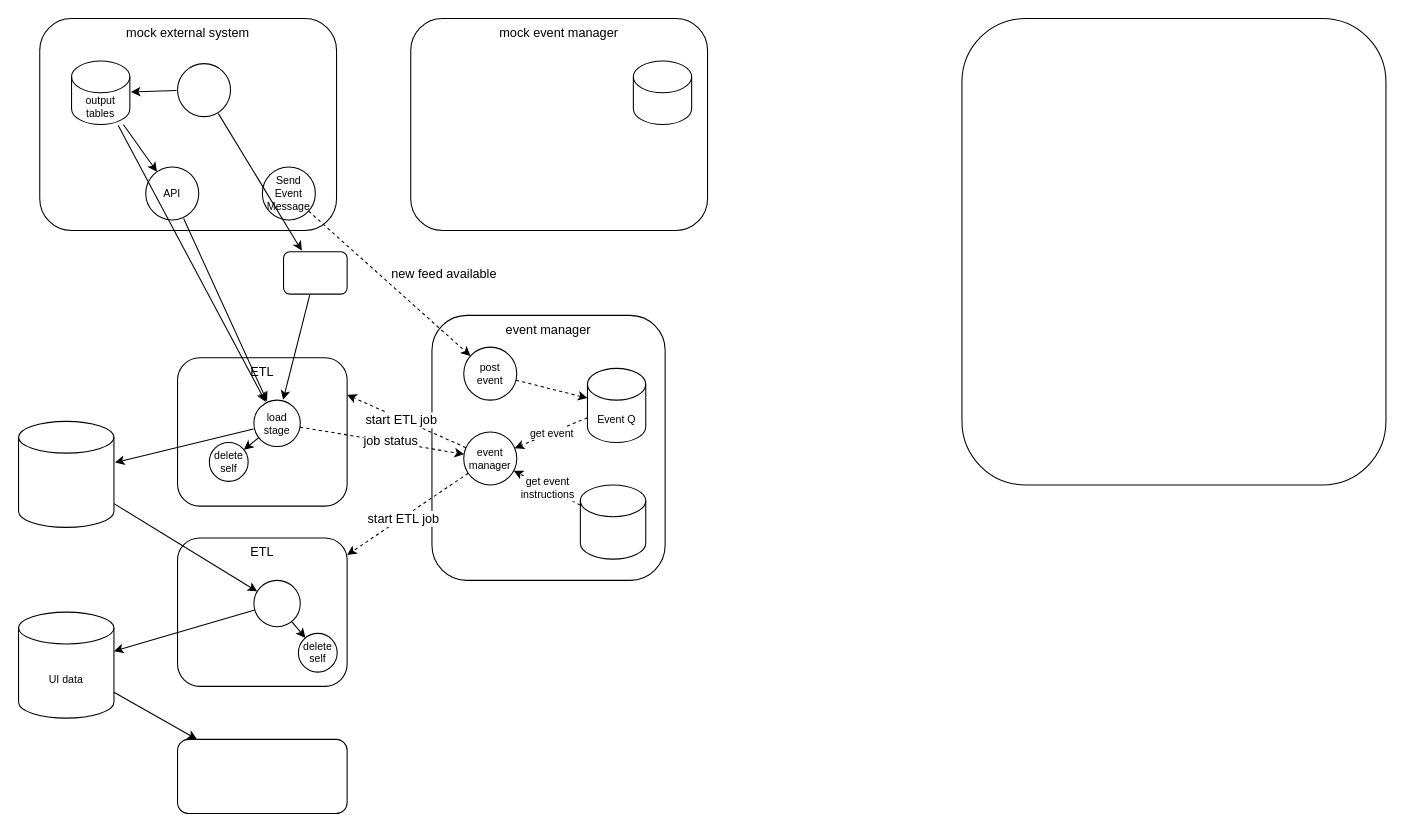
This 1404x832 diagram has some shape labels left out. Each missing label, with the centre of its shape:
"dataflow main" belongs at point (1173, 251).
"file" belongs at point (314, 272).
"job instructions" belongs at point (612, 521).
"mock event runbook" belongs at point (662, 92).
"Produce Data" belongs at point (203, 90).
"stage" belongs at point (65, 473).
"transform" belongs at point (276, 603).
"UI API" belongs at point (261, 776).
